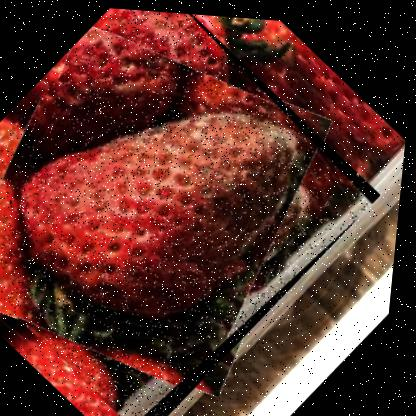strawberry_rotten: (0, 0, 399, 415)
